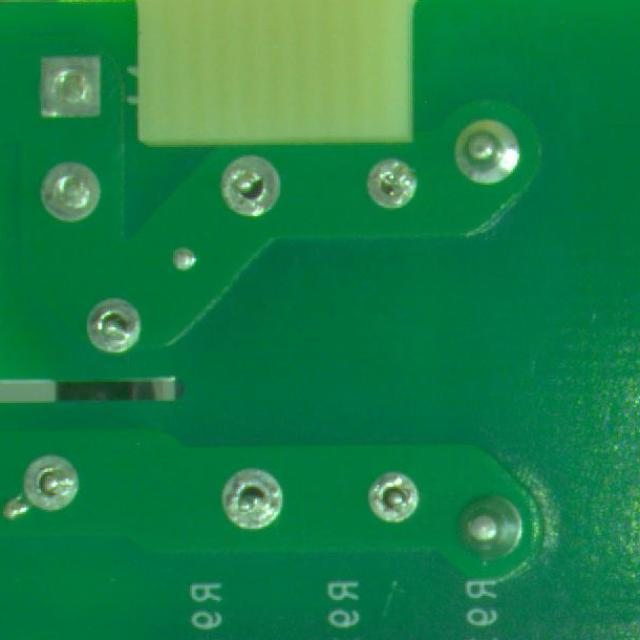Insufficient solder: (26, 149, 112, 230), (32, 45, 110, 128), (215, 150, 289, 219), (218, 464, 284, 540), (19, 452, 86, 520), (80, 294, 142, 361), (362, 468, 423, 529), (362, 156, 420, 213)
